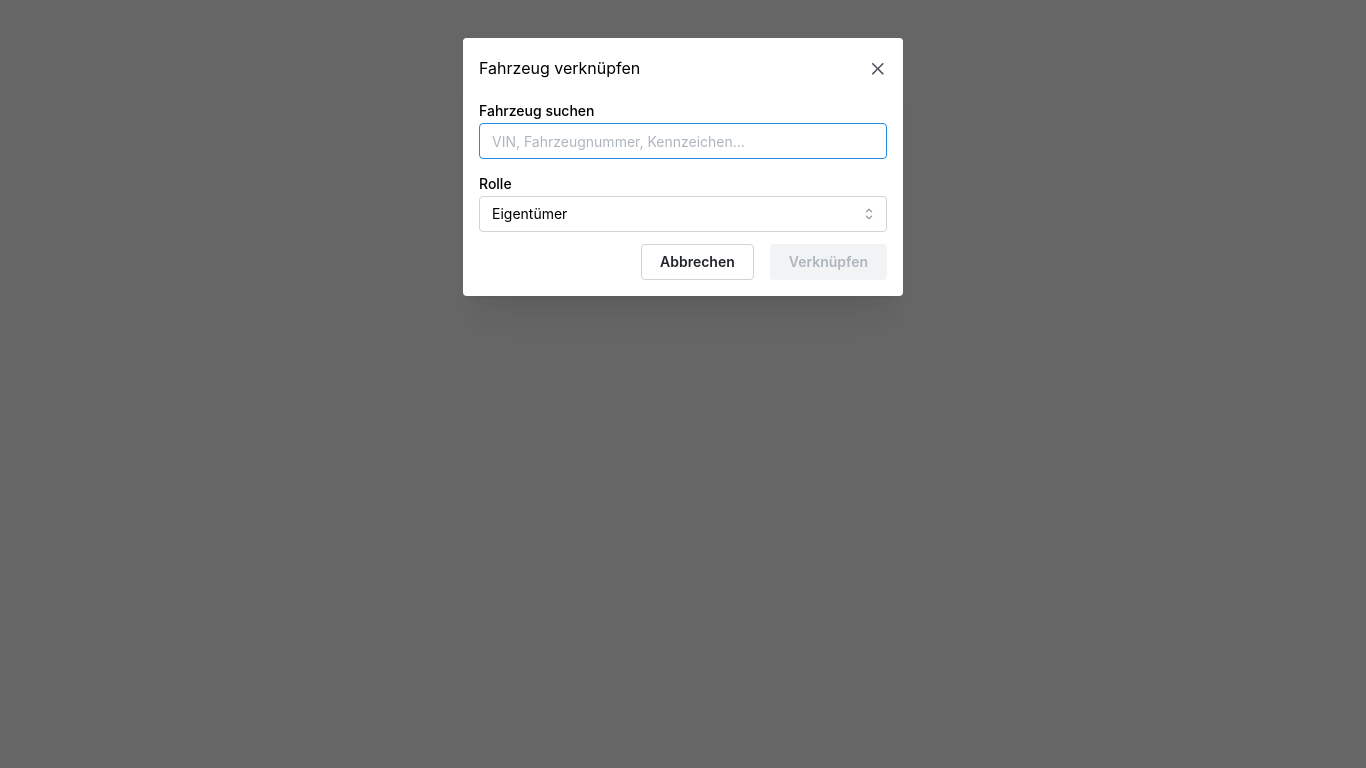
Test: LinkVehicleModal — a full identifier finds its vehicle (KAN-82) › a shared plate offers both cars and preselects neither
Type "TG 41277" into the field labelled "Fahrzeug suchen" at point(683, 141), box [479,123,887,159]
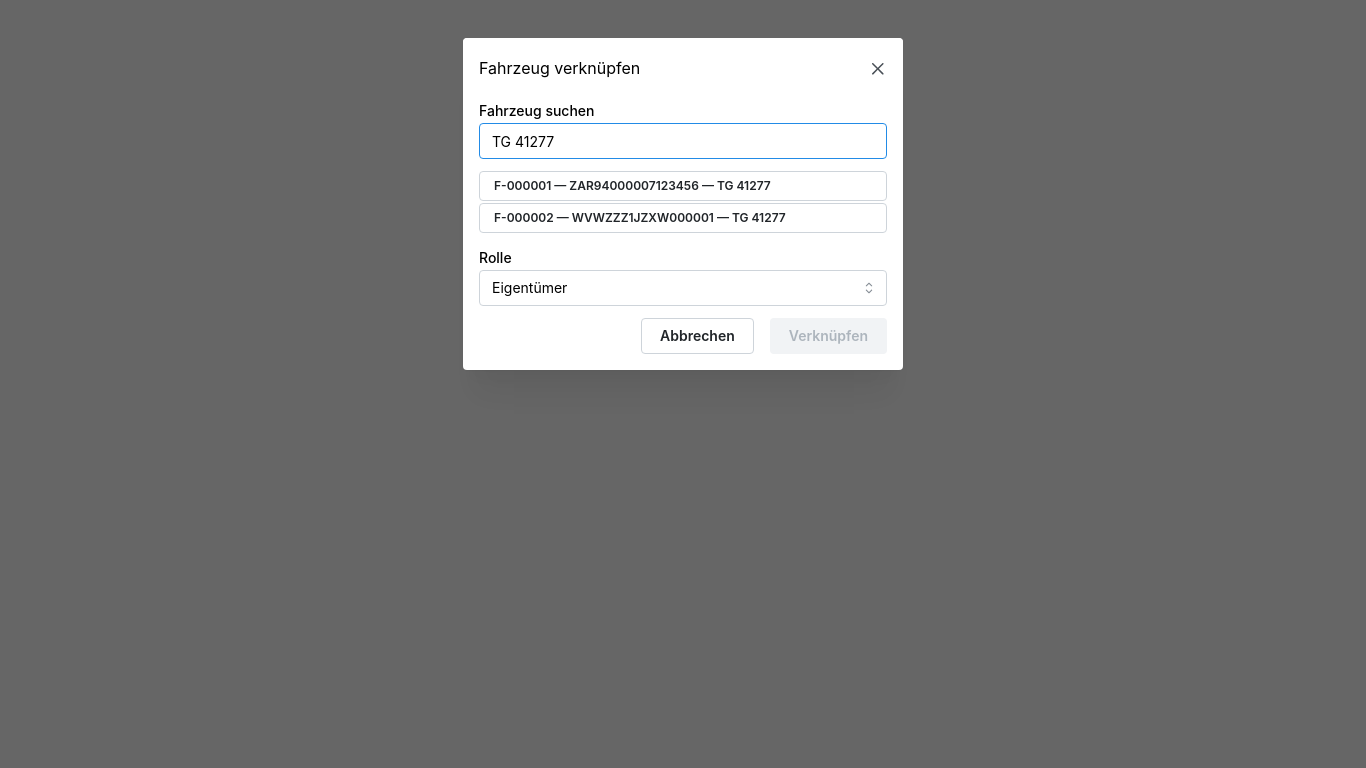
Expected: the button "Verknüpfen" is disabled, [770,318,887,354]
Result: the button "F-000001 — ZAR94000007123456 — TG 41277" is shown at [479,171,887,201]
Result: the button "F-000002 — WVWZZZ1JZXW000001 — TG 41277" is shown at [479,203,887,233]
